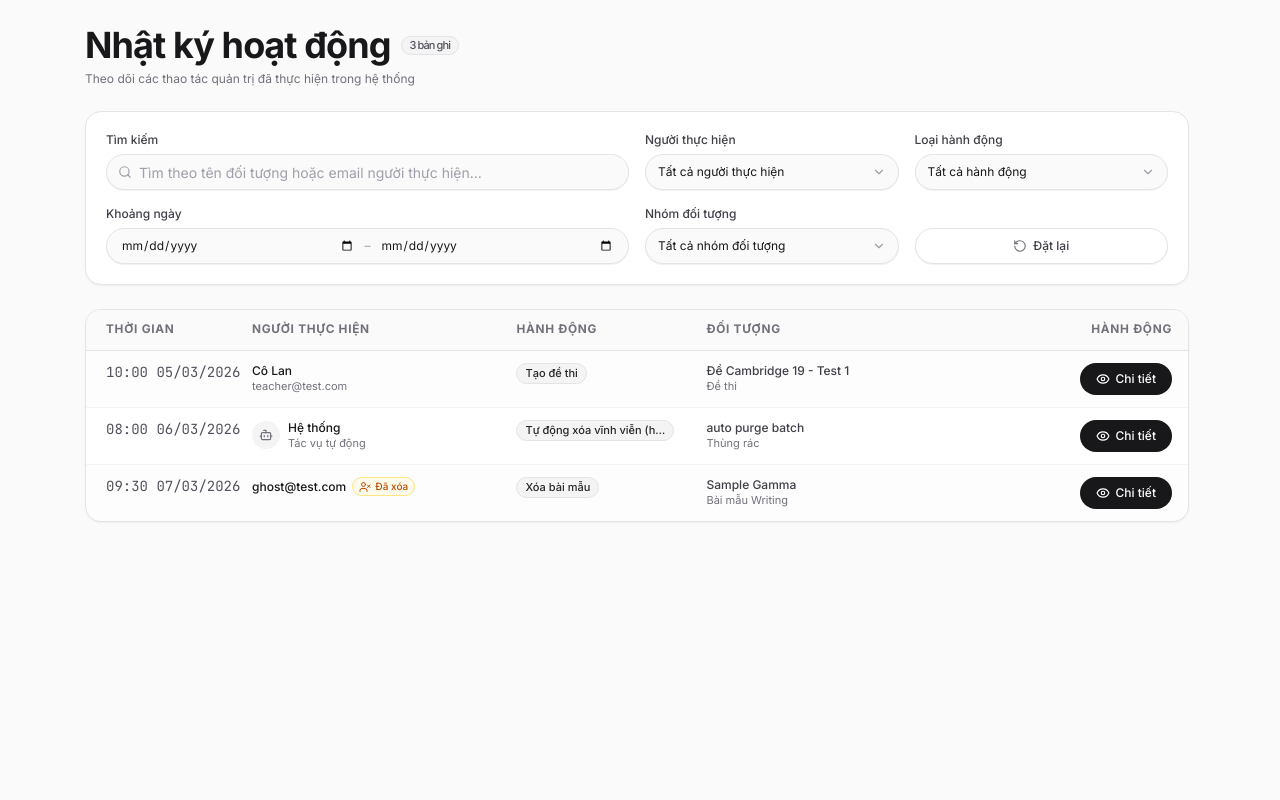
Test: AuditLogs page — bảng + modal chi tiết › shows a short empty-metadata message instead of blank space when metadata is null
Check: the text "ghost@test.com" is shown, box [252, 479, 346, 495]
Step 1. Click the button "Chi tiết" in the row of "09:30 07/03/2026" → (1126, 493), box [1080, 477, 1172, 509]
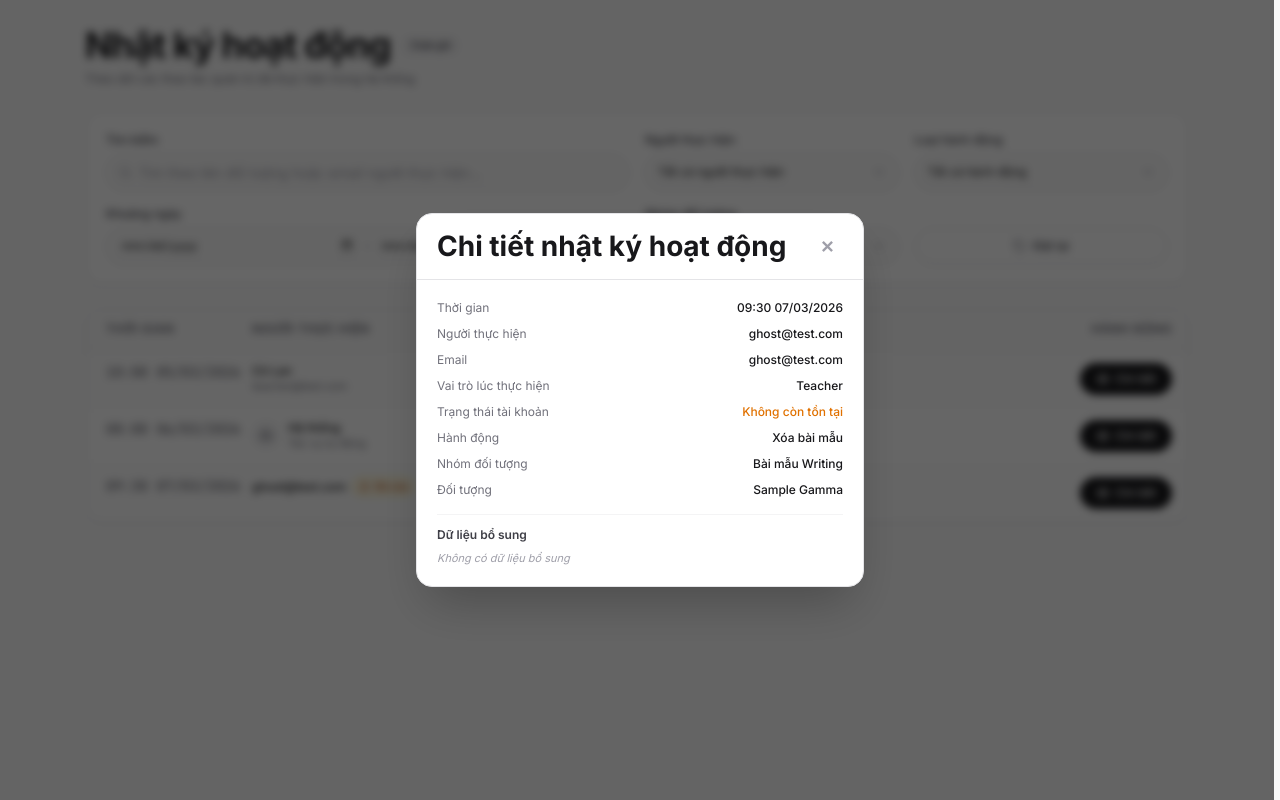
Check: the text "Không có dữ liệu bổ sung" is shown, box [437, 552, 570, 566]
